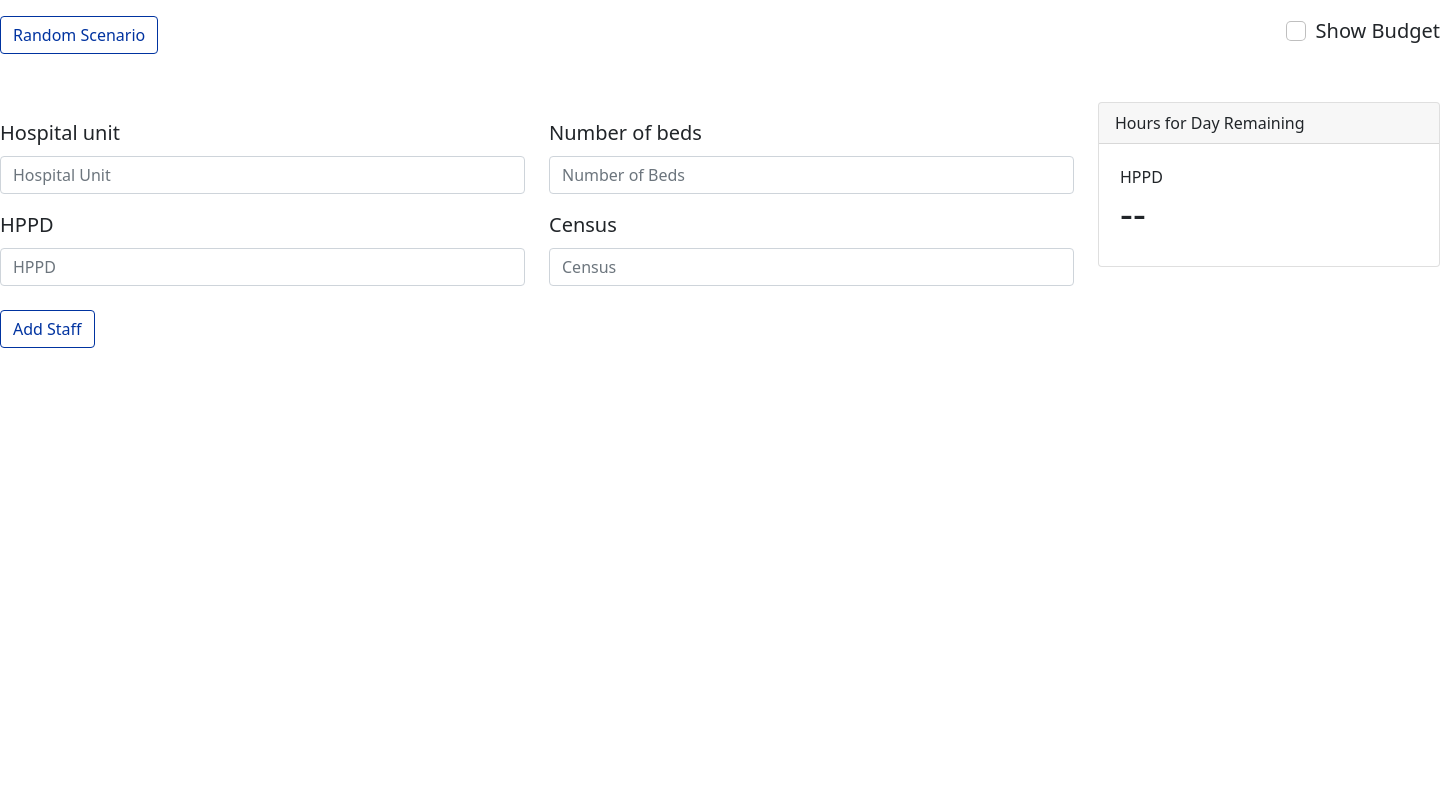
<StaffBudget /> › Test budget accuracy
// initial budget should be 0
Click the checkbox with test id "showbudget-id": (1296,31) [1286,21,1306,41]
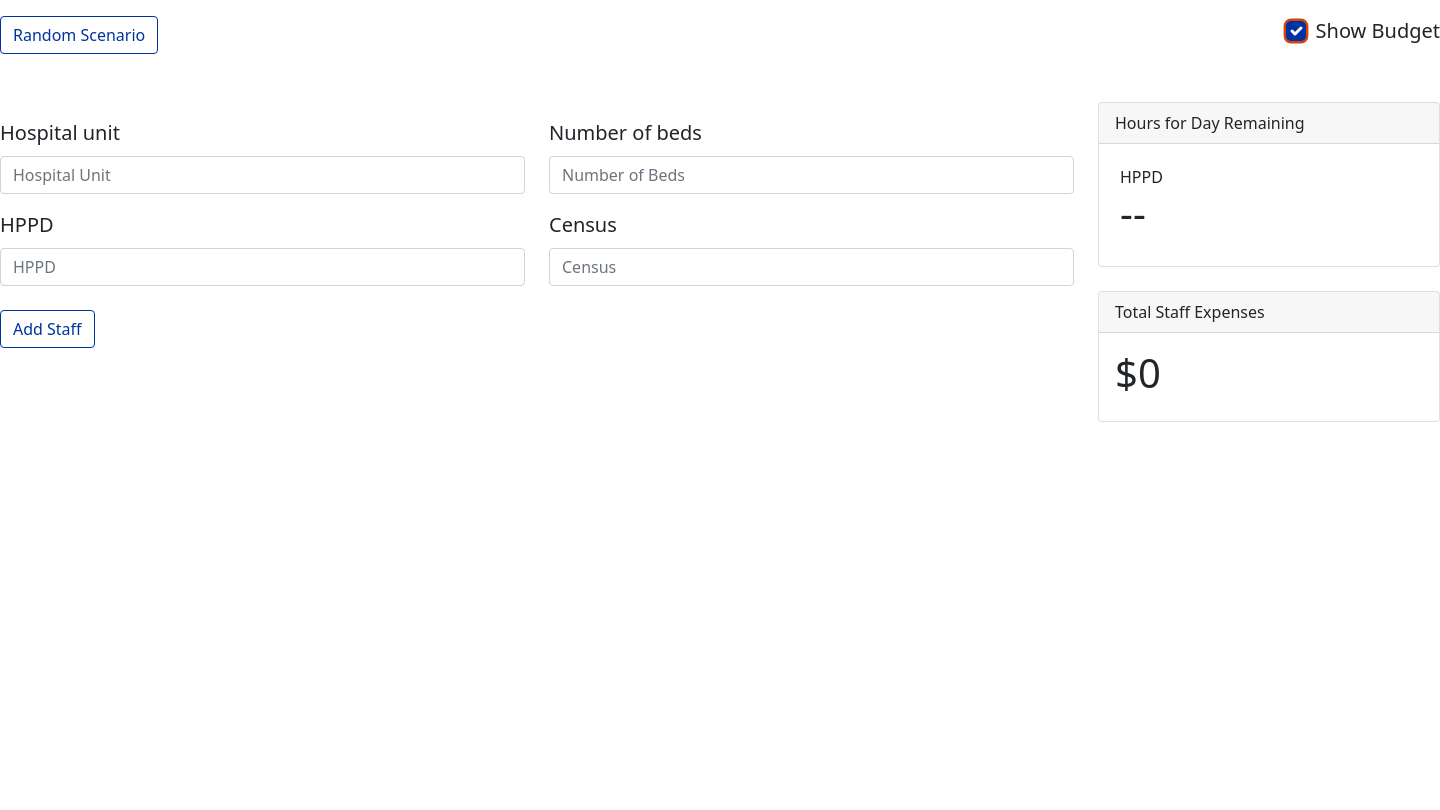
Result: the checkbox with test id "showbudget-id" is checked at [1286,21,1306,41]
Result: the heading "$0" is shown at [1115,345,1161,400]
// add staff
Click the button with test id "addstaff-id": (47,329) [0,310,95,348]
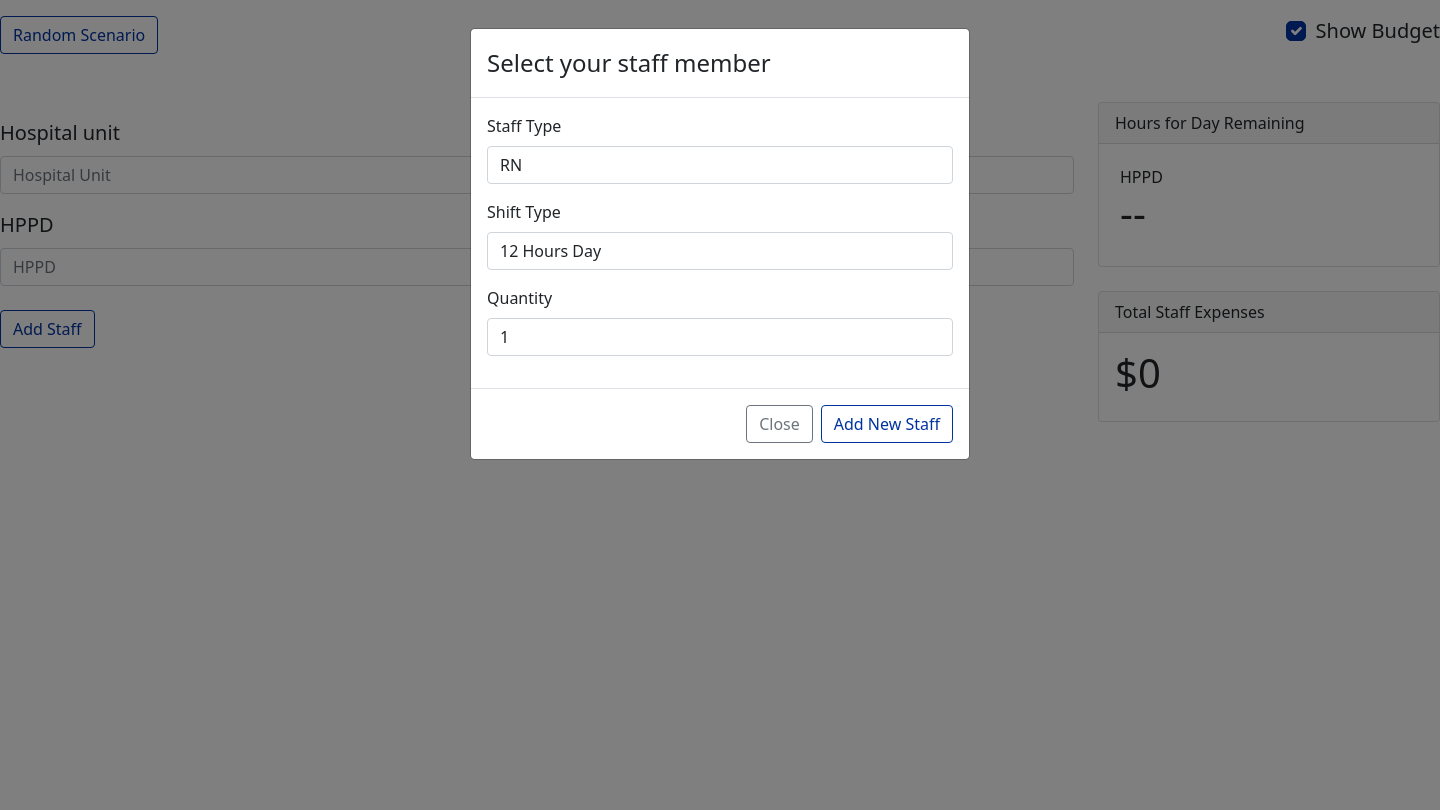
Click the button with test id "addStaffConfirm-id": (887,424) [821,405,953,443]
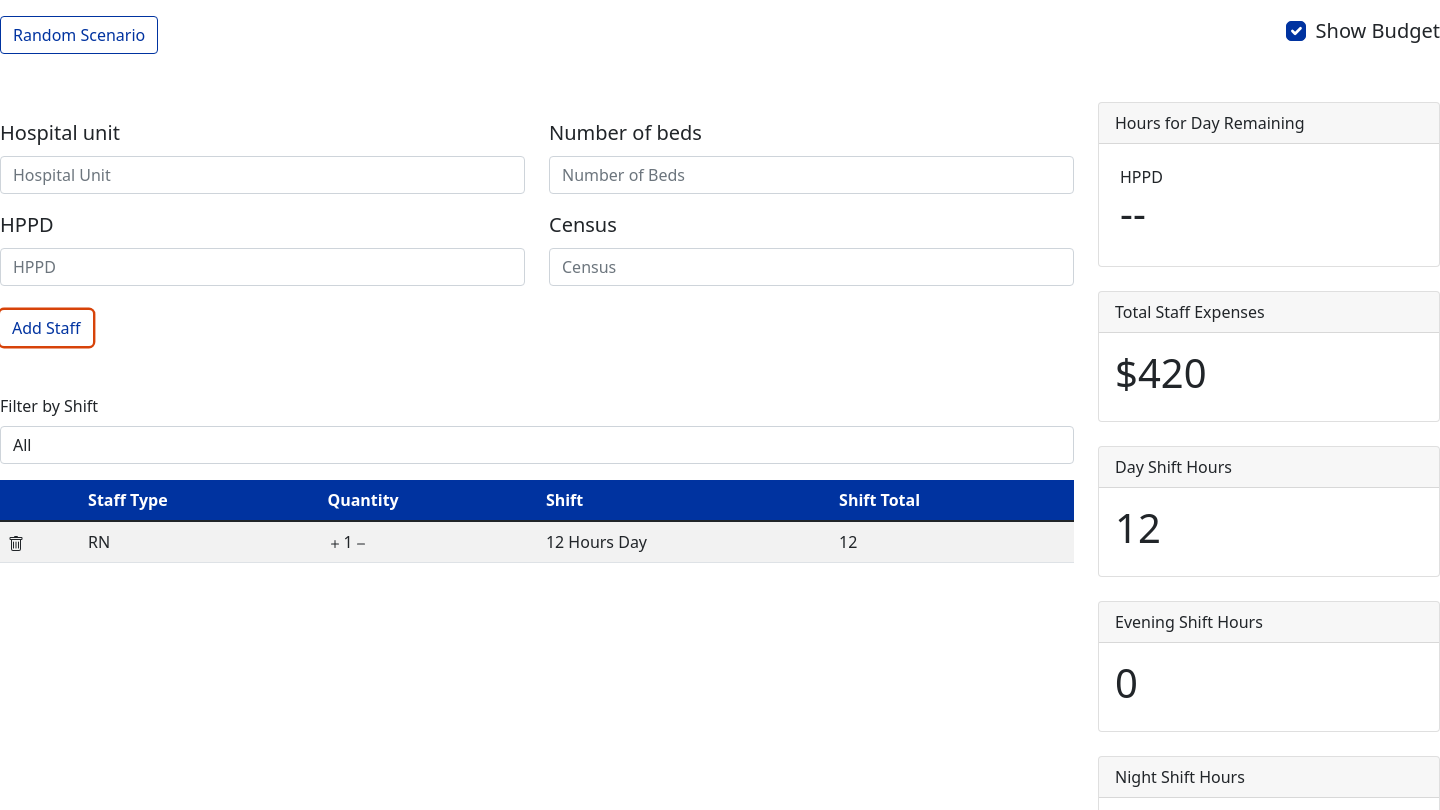
Result: the heading "$420" is shown at [1115,345,1206,400]
